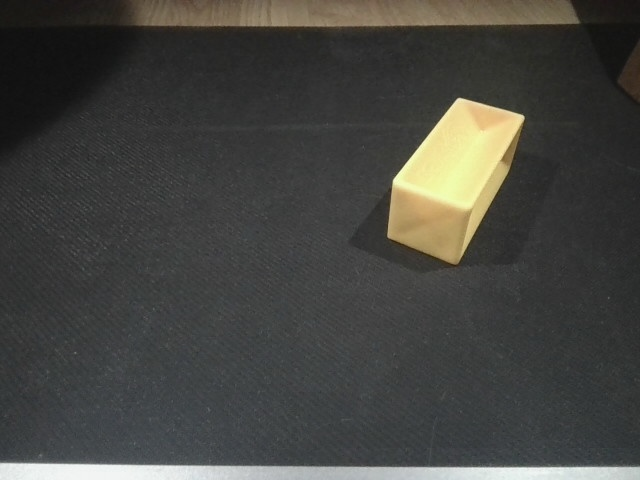YellowSample: (380, 88, 527, 284)
